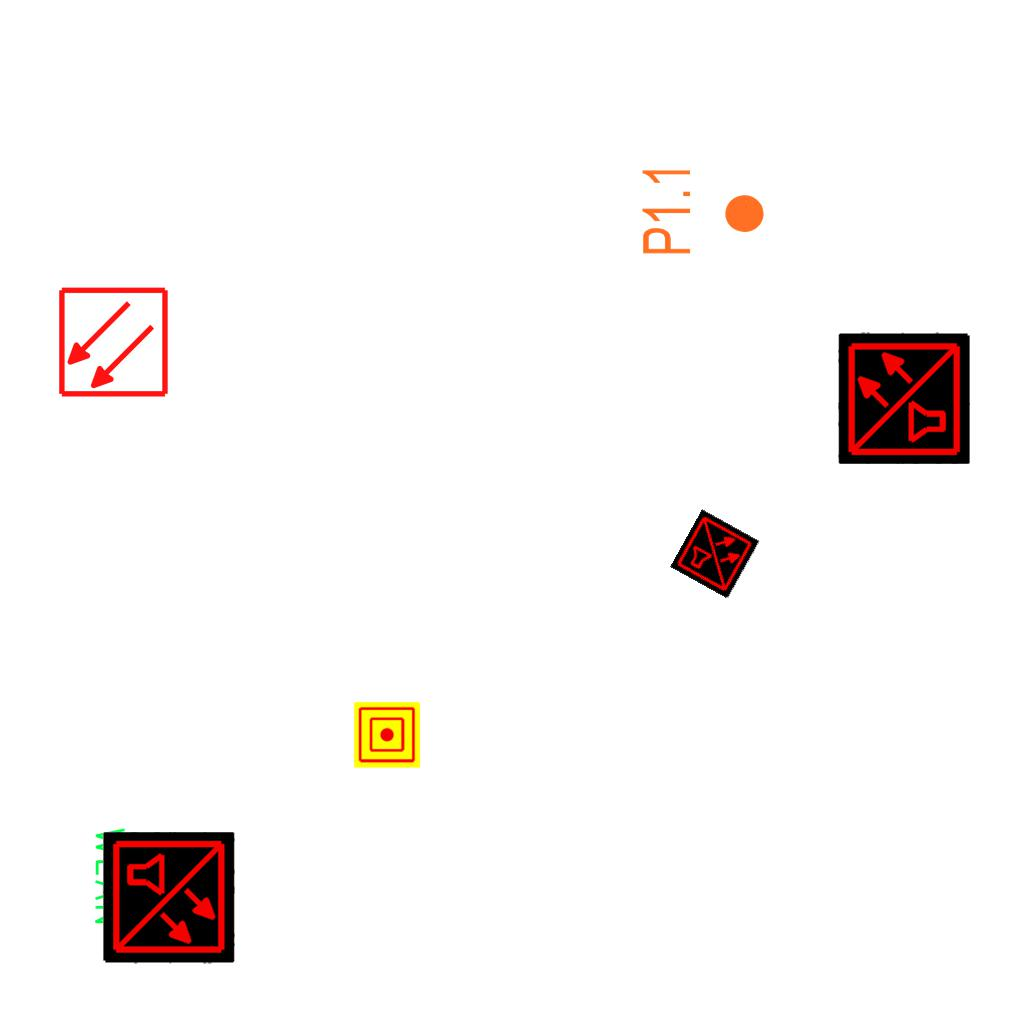Downlight_LED_Einbauleuchten_Flur: (639, 164, 767, 257)
NAM-Nichtautomatischer_Melder: (354, 702, 420, 768)
OKW_Multisensormelder_(Kombination_optischer_Rauch-Kahlenmonoxid_Waerme-Melder): (838, 332, 970, 464), (103, 832, 235, 964), (670, 509, 760, 599)
RMO_Rauchmelder_optischer: (57, 286, 170, 399)
WLAN: (91, 823, 195, 928)
